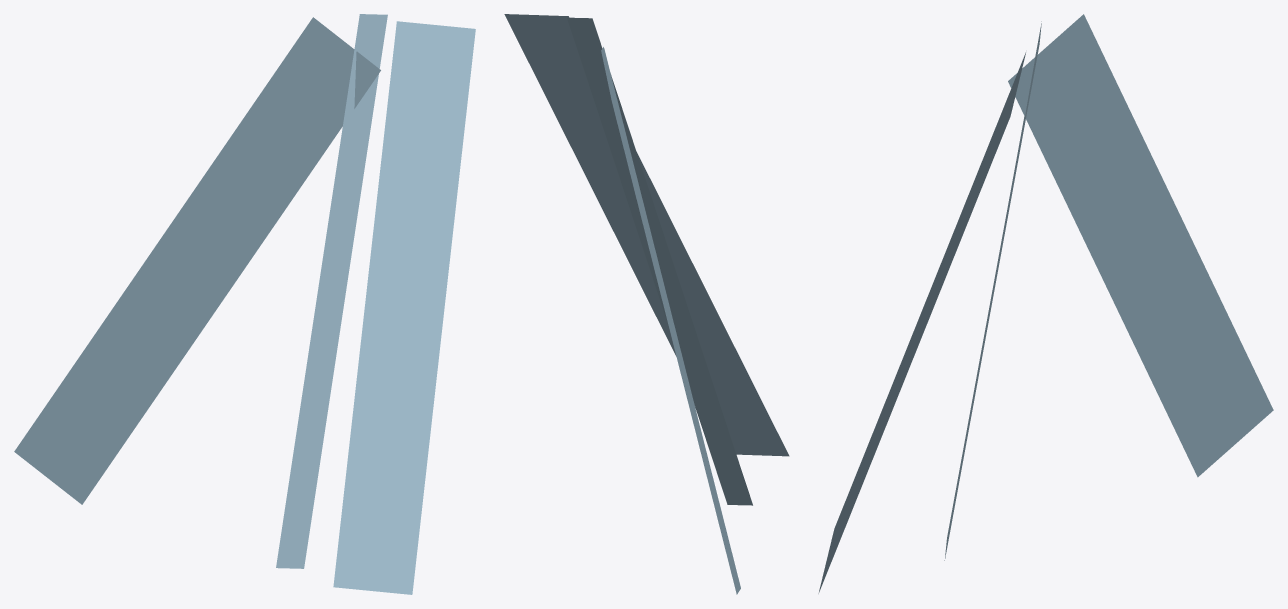
3 renders of one model, left to right at view 1: azimuth 30°, elevation 25°; view 2: azimuth 150°, elevation 25°; view 3: azimuth 270°, elevation 25°, orthographic. The views are drawn at different scales.
Visible parts, largest first — view 1: Object38; view 2: Object38; view 3: Object38.
Boxes of the visible parts, left/top/right/bottom form: Object38: left=14, top=14, right=475, bottom=594; Object38: left=504, top=14, right=789, bottom=594; Object38: left=818, top=14, right=1273, bottom=593.
Bounding box in the file's own units: 192 × 262 × 181.
